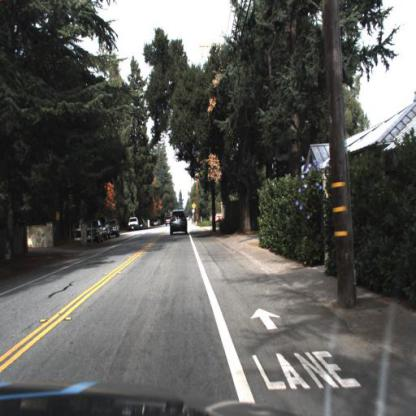car: (168, 208, 188, 238), (85, 219, 104, 244), (92, 218, 106, 245), (126, 214, 141, 235), (110, 216, 120, 237)
